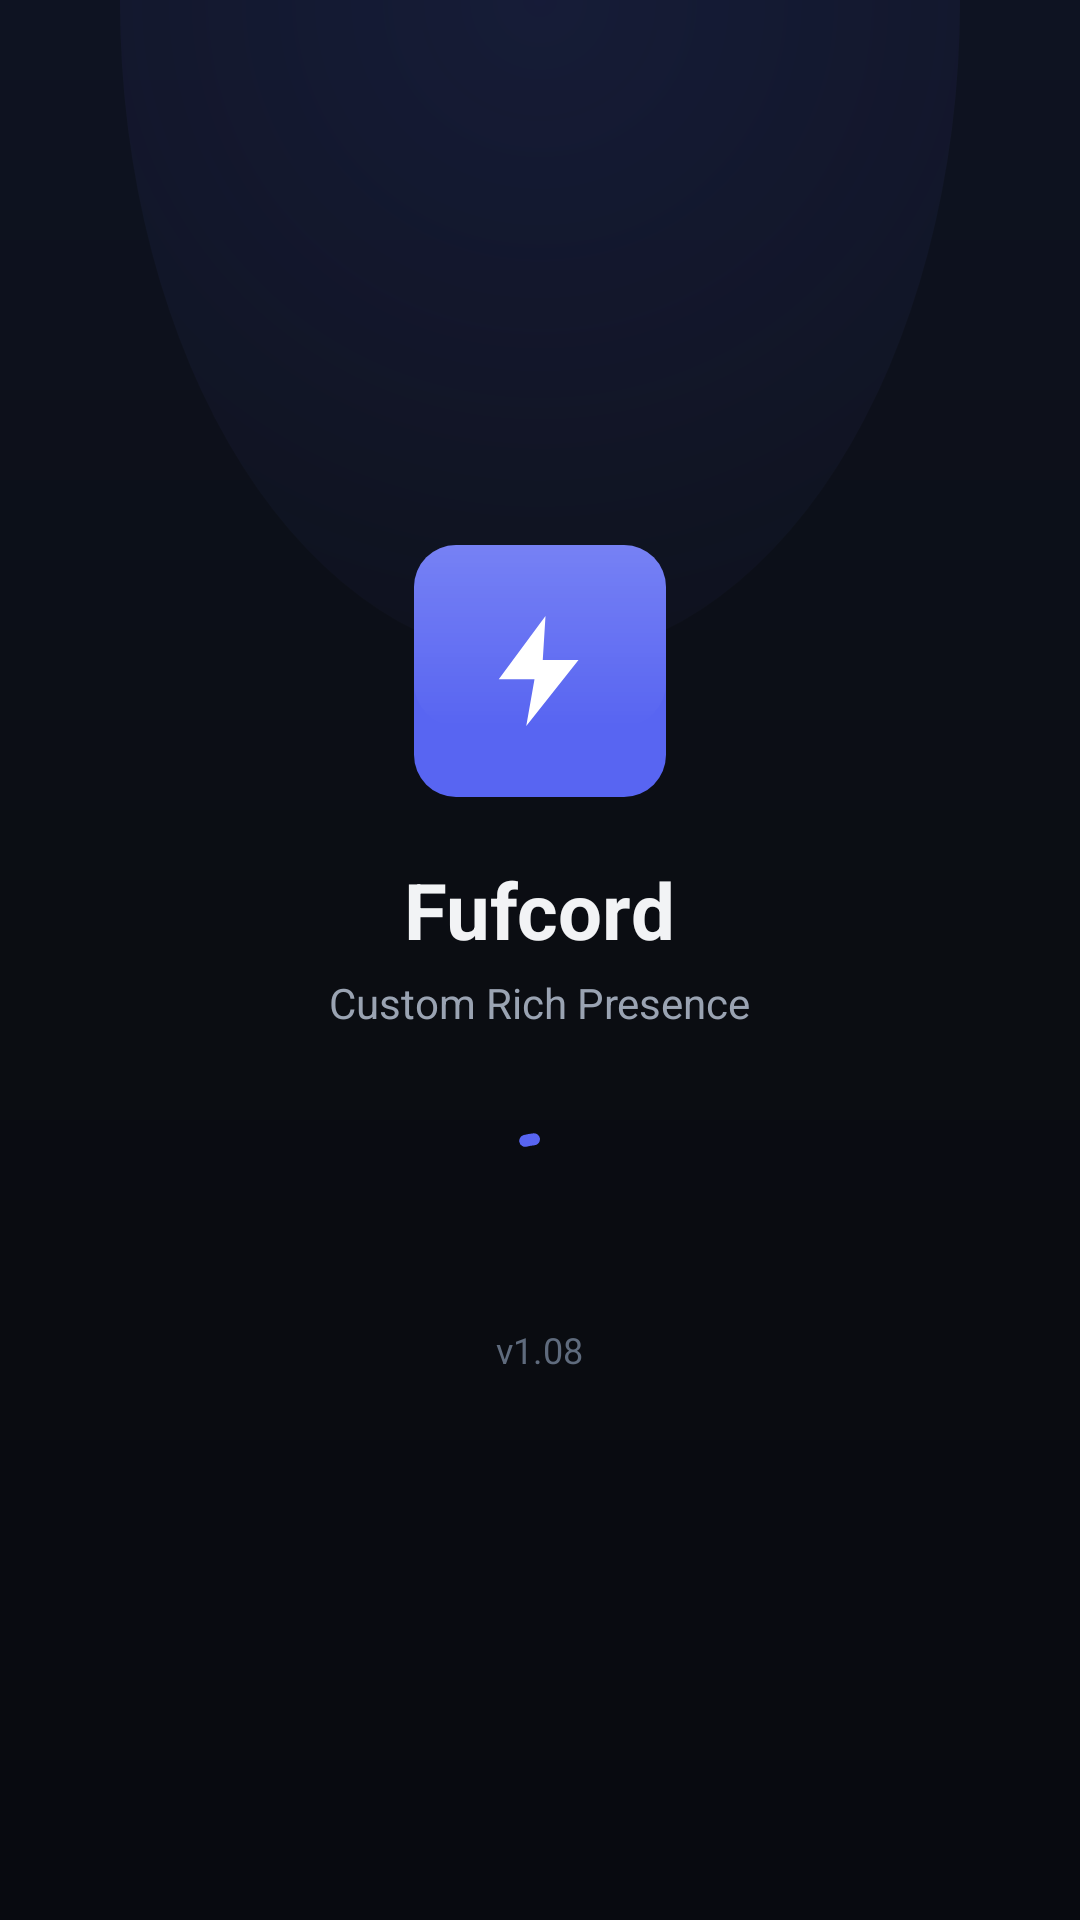

Point at icon controls on the screen. Image size 1080px x 1920px, points as (x,y).
bolt: (539,671)
